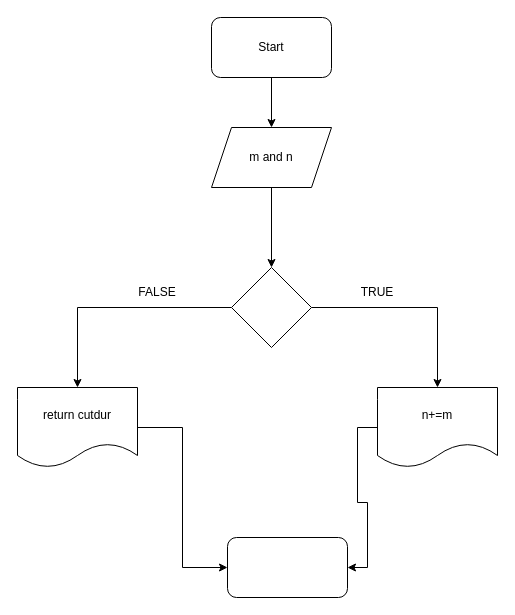
This 515x615 diagram has some shape labels left out. The box of each missing label's shape, as (x1, y1, x2, y2) in pixels:
END: (226, 536, 348, 598)
if n % 2 != 0: (230, 266, 312, 348)
